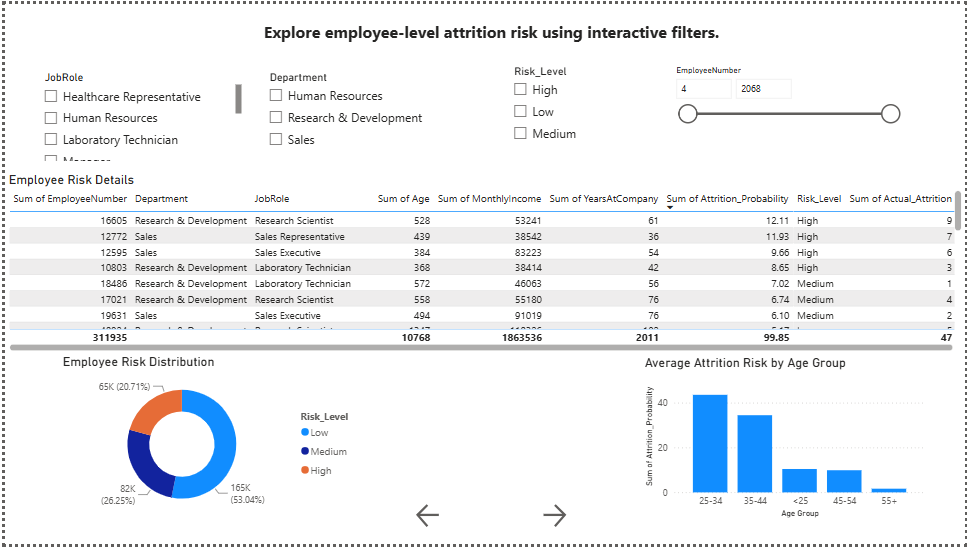

The page's visual inventory and layout, read from the dashboard file:
{"tool":"powerbi","page":{"name":"Employee Risk Explorer","canvas":[1280,720],"ordinal":4},"visuals":[{"type":"slicer","fields":{"Values":["employee_attrition_risk_scores.Department"]},"box":[340,83.3,280,116.7],"z":0},{"type":"slicer","fields":{"Values":["employee_attrition_risk_scores.JobRole"]},"box":[40,83.3,280,130],"z":1000},{"type":"slicer","fields":{"Values":["employee_attrition_risk_scores.EmployeeNumber"]},"box":[881.7,76.7,320,121.7],"z":2000},{"type":"slicer","fields":{"Values":["employee_attrition_risk_scores.Risk_Level"]},"box":[665,76.7,140,131.7],"z":3000},{"type":"tableEx","title":"Employee Risk Details","fields":{"Values":["Sum(employee_attrition_risk_scores.EmployeeNumber)","employee_attrition_risk_scores.Department","employee_attrition_risk_scores.JobRole","Sum(employee_attrition_risk_scores.Age)","Sum(employee_attrition_risk_scores.MonthlyIncome)","Sum(employee_attrition_risk_scores.YearsAtCompany)","Sum(employee_attrition_risk_scores.Attrition_Probability)","employee_attrition_risk_scores.Risk_Level","Sum(employee_attrition_risk_scores.Actual_Attrition)"]},"box":[0,223.3,1280,243.3],"z":4000},{"type":"donutChart","title":"Employee Risk Distribution","fields":{"Category":["employee_attrition_risk_scores.Risk_Level"],"Y":["Sum(employee_attrition_risk_scores.EmployeeNumber)"]},"box":[71.2,466.3,408,221.8],"z":5000},{"type":"clusteredColumnChart","title":"Average Attrition Risk by Age Group","fields":{"Category":["employee_attrition_risk_scores.Age Group"],"Y":["Sum(employee_attrition_risk_scores.Attrition_Probability)"]},"box":[848.5,468,383.8,221.8],"z":6000},{"type":"textbox","box":[340,15,630,48.3],"z":7000},{"type":"actionButton","box":[544.1,662.3,40.5,40.5],"z":8000},{"type":"actionButton","box":[712.5,662.3,45.3,40.5],"z":9000}]}

Visuals, with their boxes in screenshot pixels (x1, y1, x2, y2), scaled from the page's 1280x720 canvas onto the 967x548 screenshot:
slicer - employee_attrition_risk_scores.Department: [257, 63, 468, 152]
slicer - employee_attrition_risk_scores.JobRole: [30, 63, 242, 162]
slicer - employee_attrition_risk_scores.EmployeeNumber: [666, 58, 908, 151]
slicer - employee_attrition_risk_scores.Risk_Level: [502, 58, 608, 159]
"Employee Risk Details" tableEx: [0, 170, 966, 355]
"Employee Risk Distribution" donutChart: [54, 355, 362, 524]
"Average Attrition Risk by Age Group" clusteredColumnChart: [641, 356, 931, 525]
textbox: [257, 11, 733, 48]
actionButton: [411, 504, 442, 535]
actionButton: [538, 504, 572, 535]
